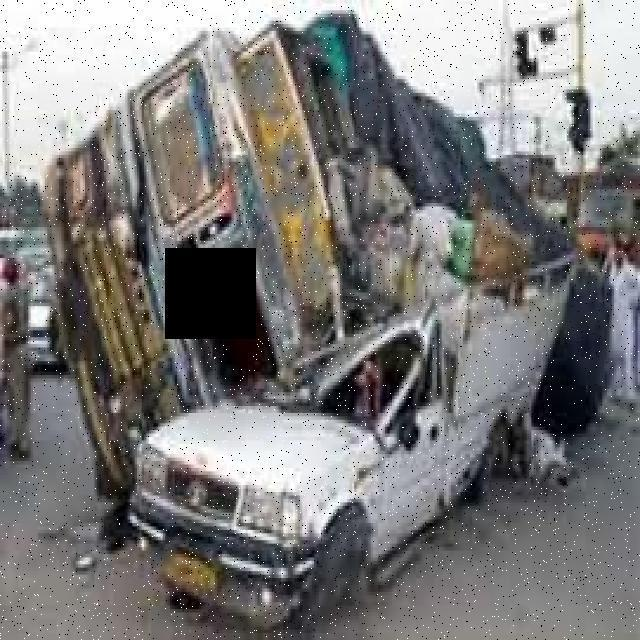accident: (31, 14, 582, 630)
